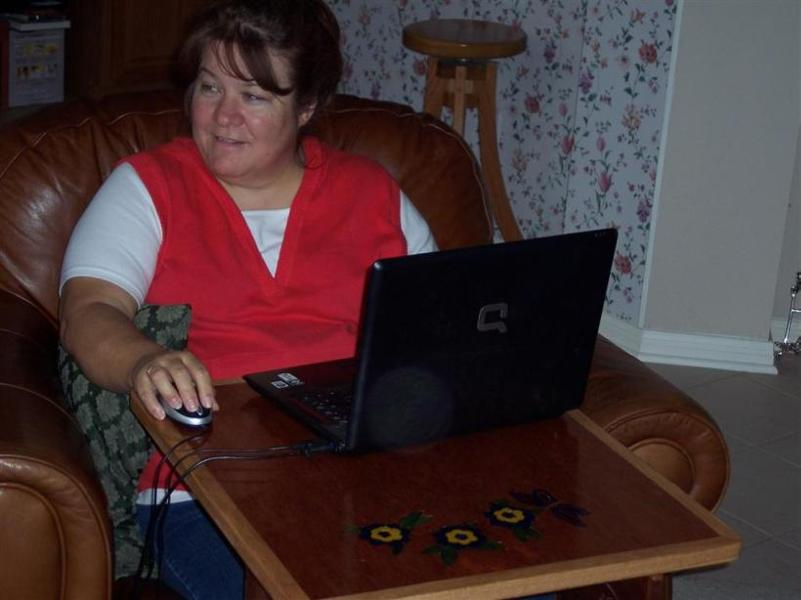person: (57, 7, 601, 600)
